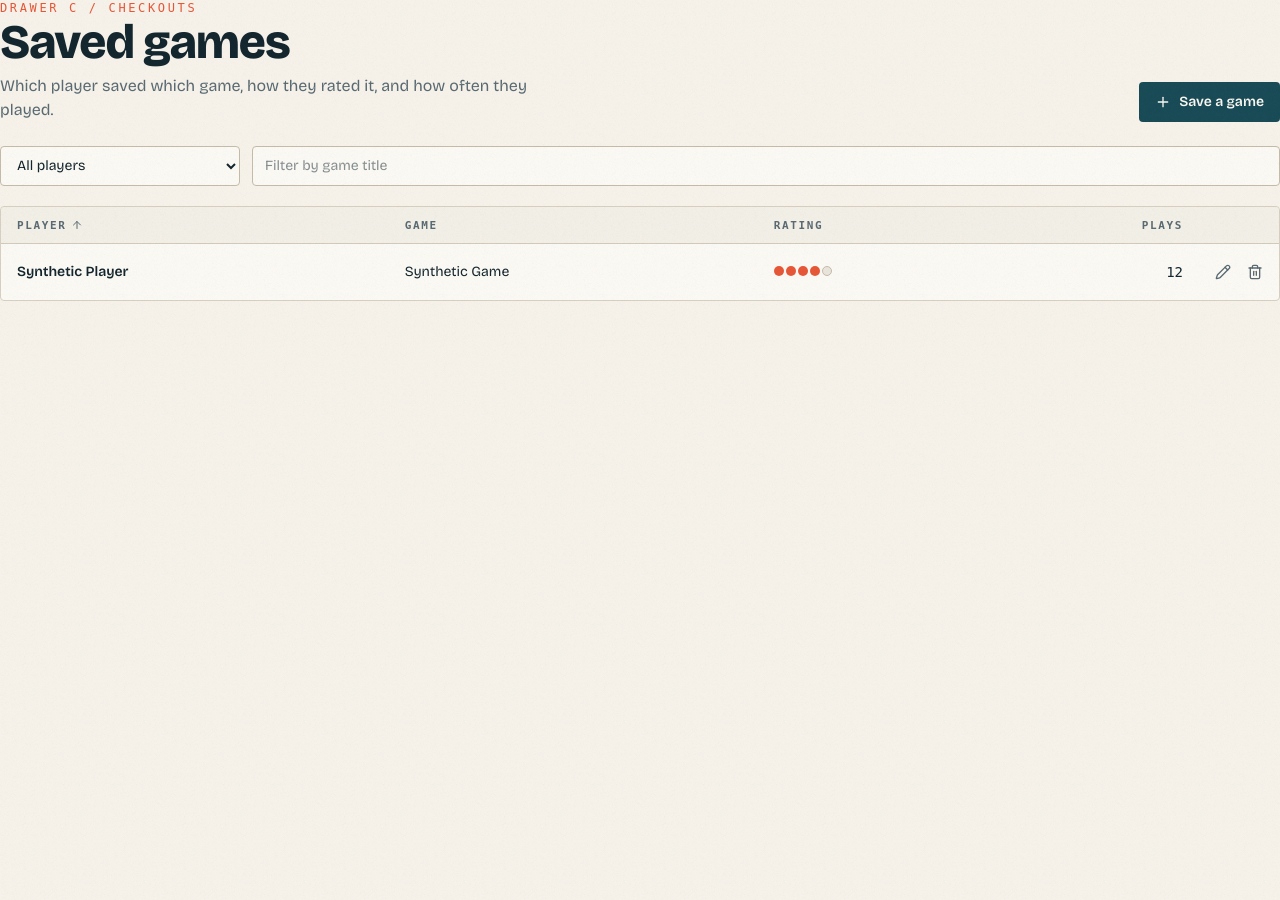
Test case: edit local validation › rejects play count -1 with failure and no mutation
This screenshot has width=1280, height=900.
Click the button with test id "button-edit-saved-701-902" at coordinates (1223, 272), box [1207, 256, 1239, 288]
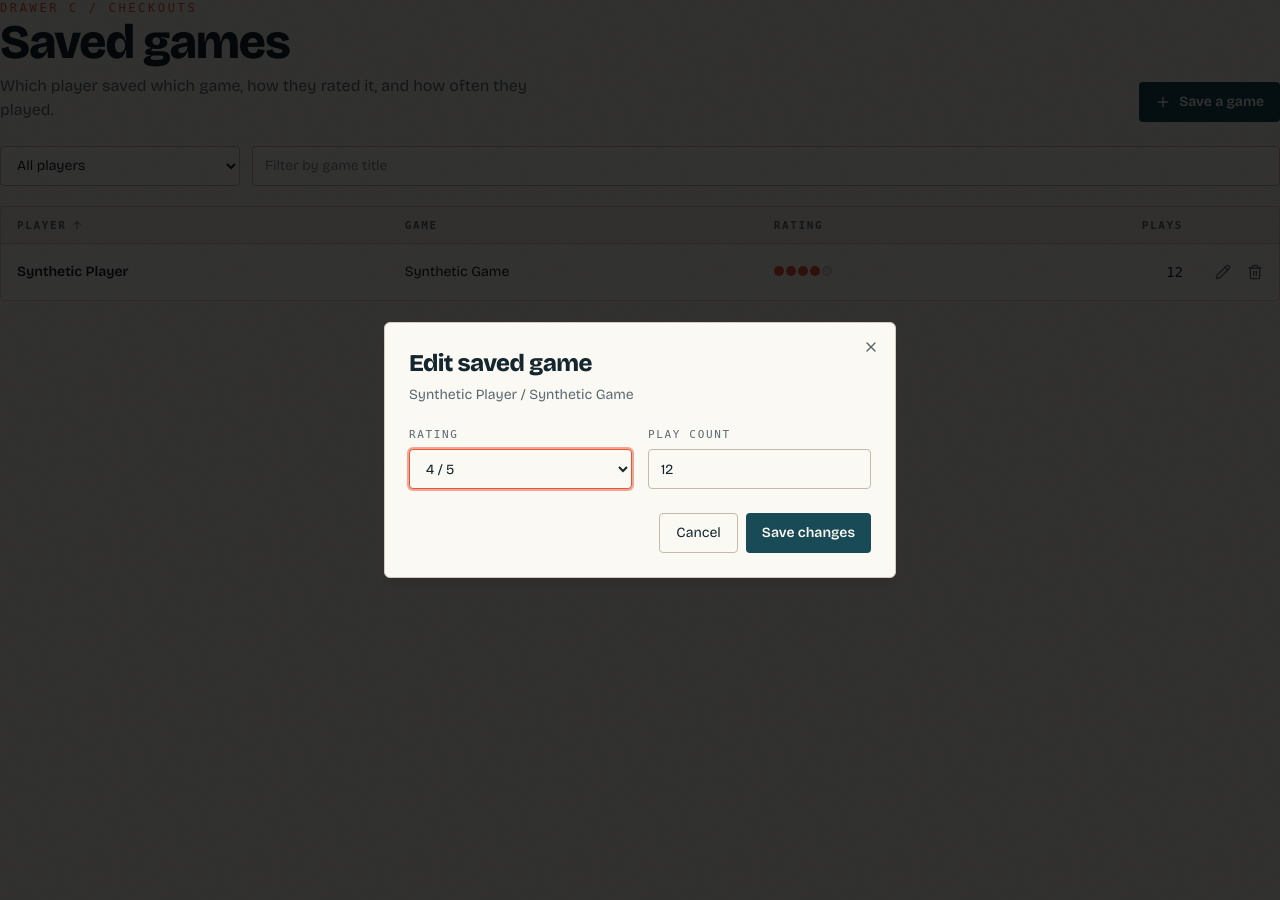
Replace the text in the field with test id "input-saved-playcount" with "-1" at coordinates (760, 469), box [648, 449, 871, 489]
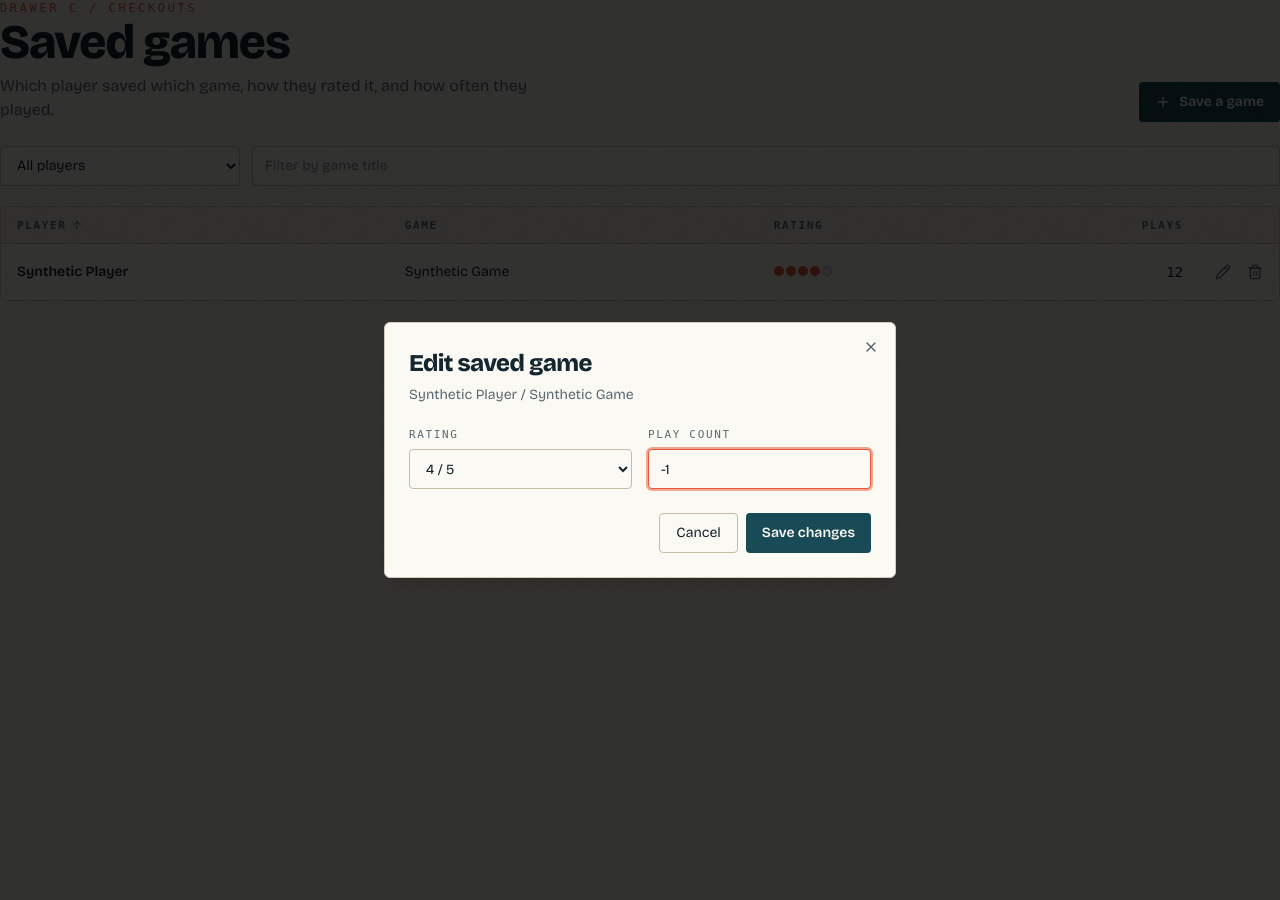
Click the button with test id "button-save-saved" at coordinates (808, 533), box [746, 513, 871, 553]
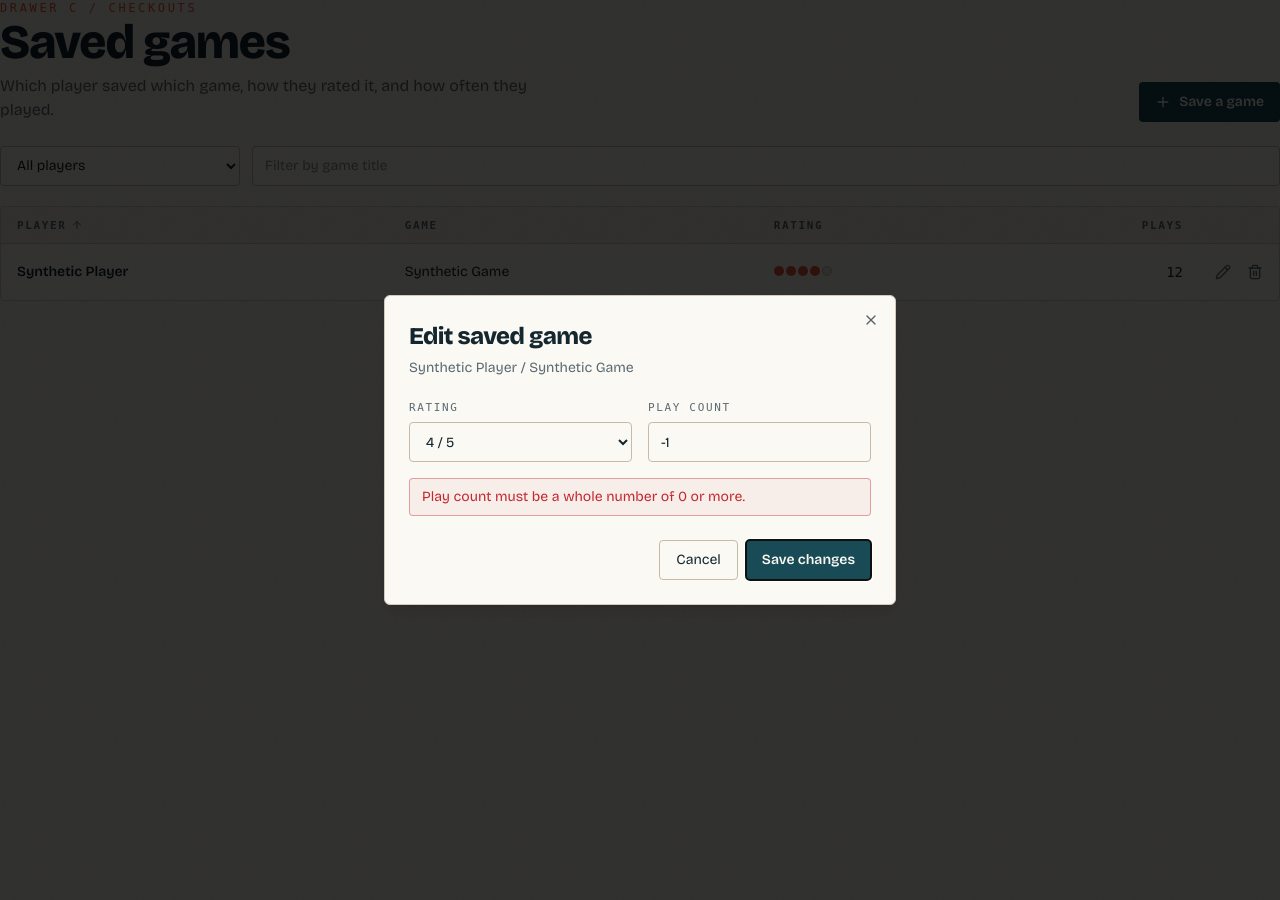
expect the text "Play count must be a whole number of 0 or more." is shown: met, box [409, 478, 871, 516]
